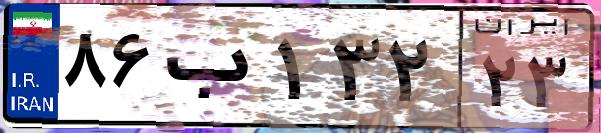1: (270, 28, 330, 110)
2: (385, 28, 445, 110), (475, 38, 525, 113)
3: (330, 28, 385, 110), (525, 38, 570, 115)
6: (110, 28, 158, 98)
8: (57, 26, 110, 100)
ب: (158, 20, 270, 120)
